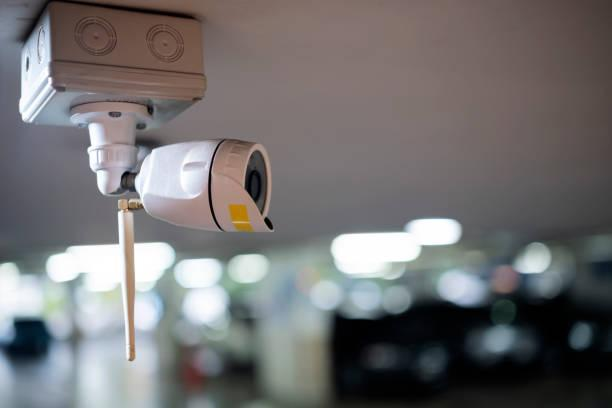CCTV: (19, 62, 274, 233)
